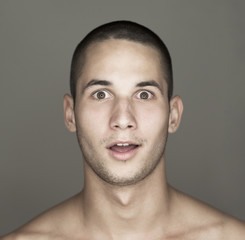young: (70, 28, 177, 180)
